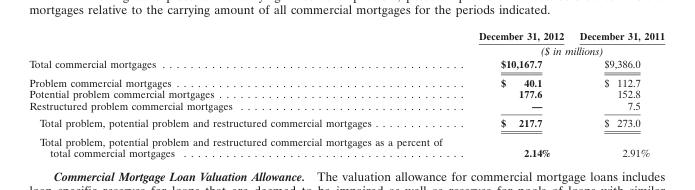table: (28, 28, 664, 158)
table column: (28, 28, 459, 158), (459, 28, 571, 158), (571, 28, 664, 158)
table column header: (28, 28, 664, 56)
table row: (28, 131, 664, 158), (28, 113, 664, 131), (28, 56, 664, 72), (28, 72, 664, 87), (28, 28, 664, 42), (28, 42, 664, 56), (28, 99, 664, 113), (28, 87, 664, 99)
table spanning cell: (459, 42, 664, 56)
